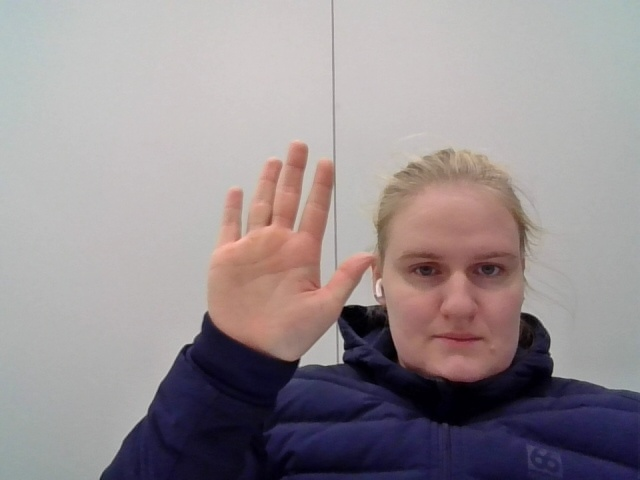nada: (184, 127, 383, 376)
